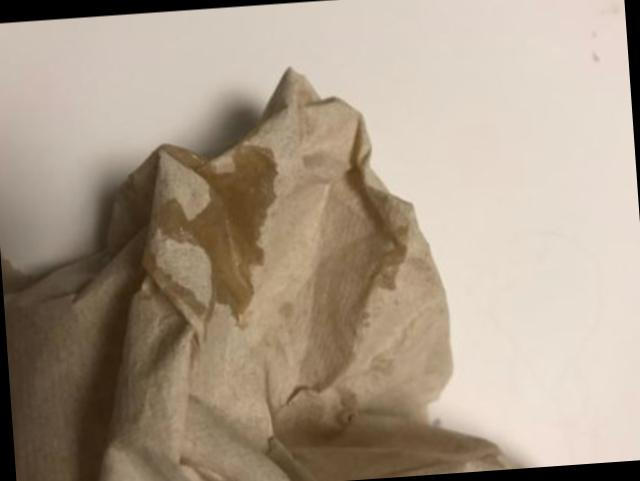cardboard paper: (3, 66, 530, 481), (2, 66, 529, 481)
